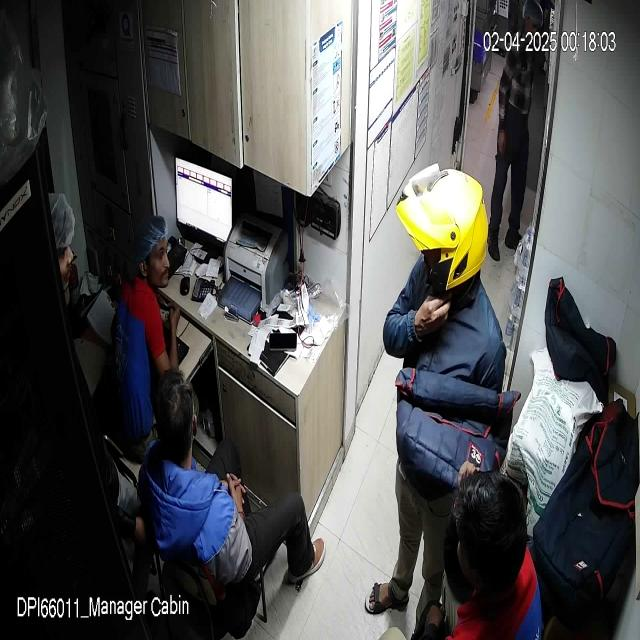helmet: (396, 162, 489, 292)
no_helmet: (454, 470, 528, 599), (152, 368, 195, 470), (133, 215, 170, 290)
